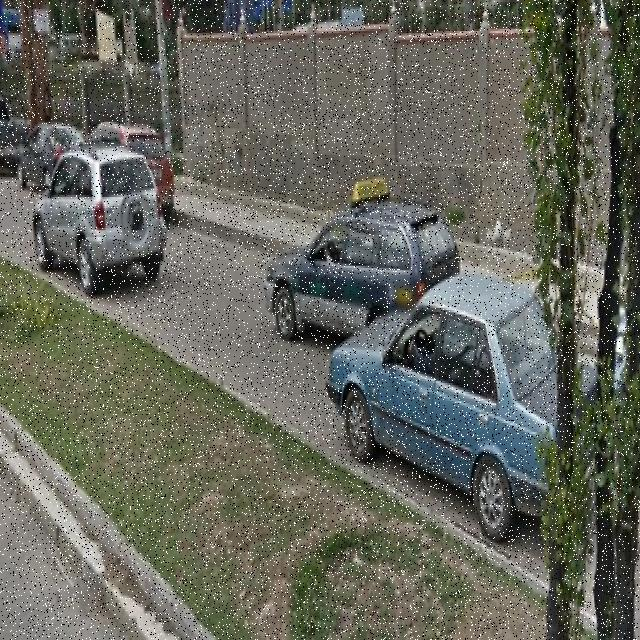cars: (38, 133, 165, 283)
